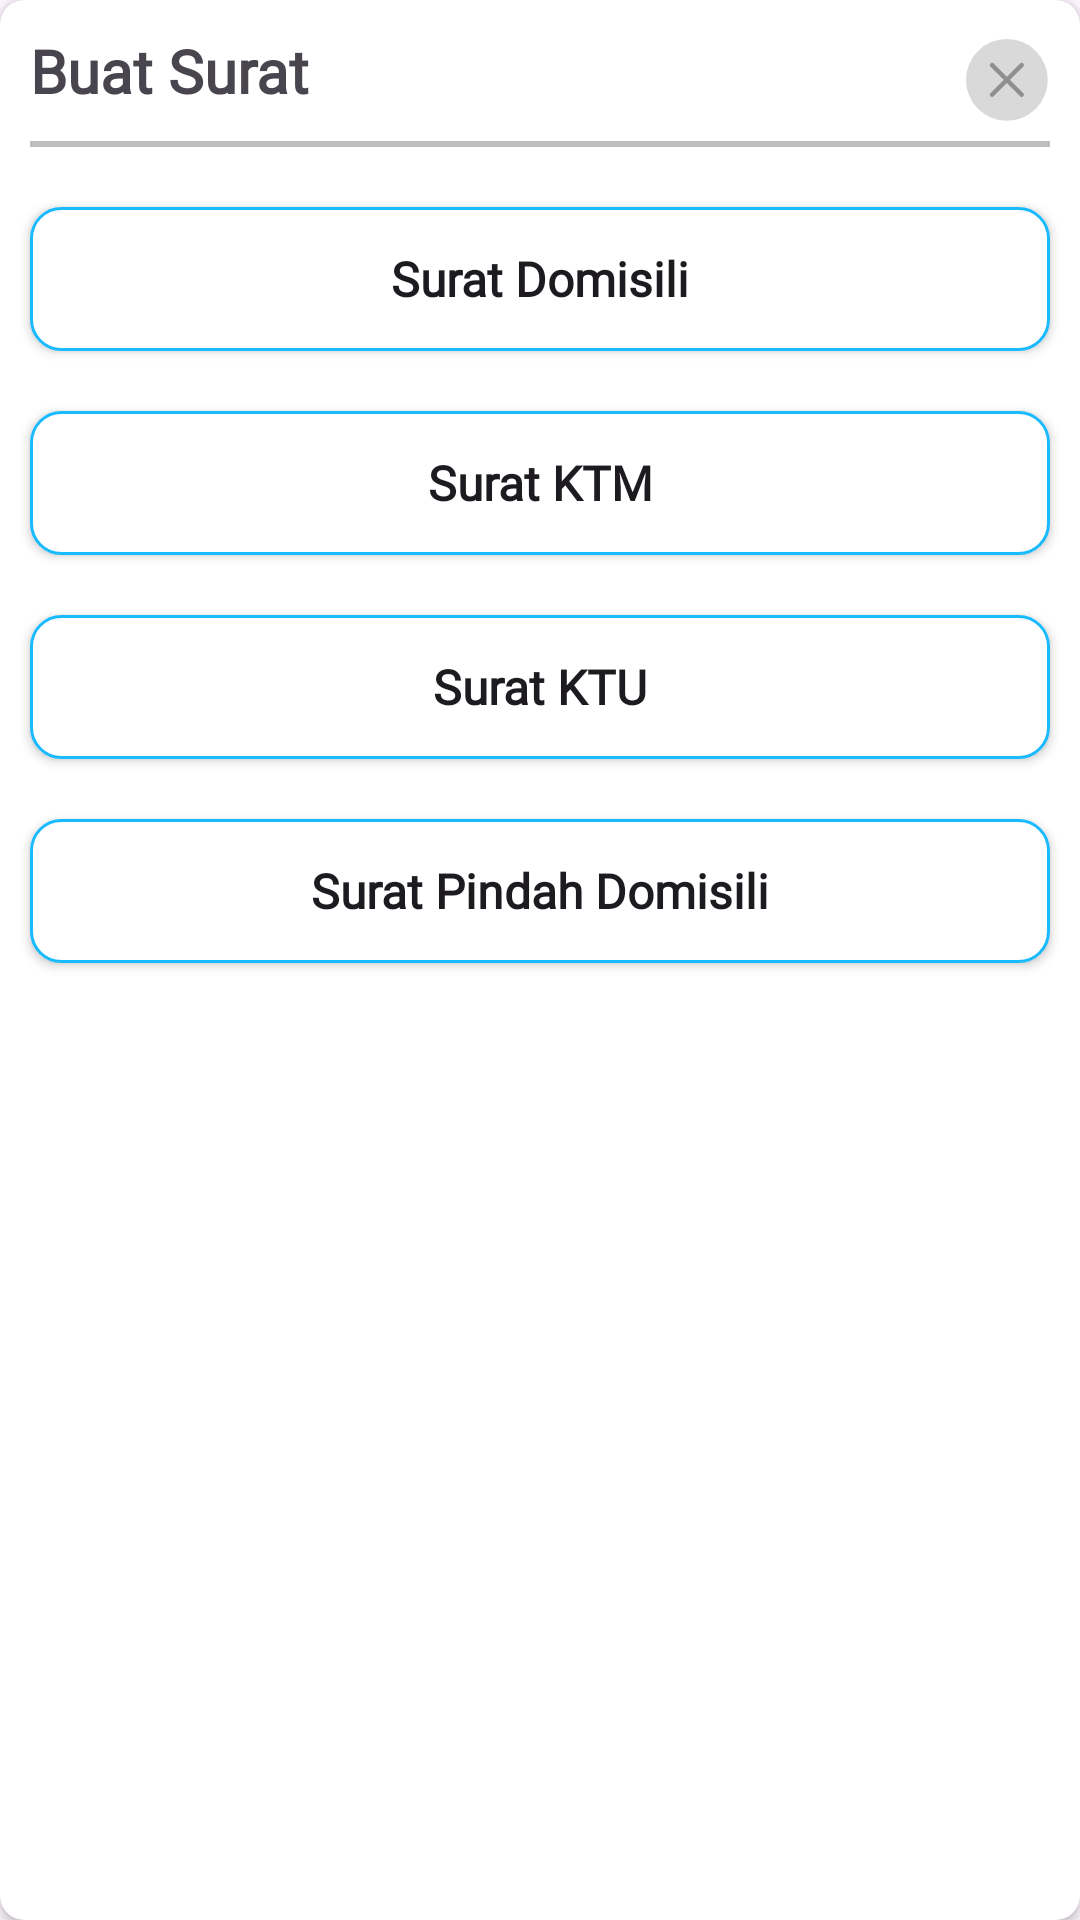

Icons on this 1080px x 1920px Android screen, each with its box as (x1, y1, x2, y2):
close: (966, 39, 1048, 121)
